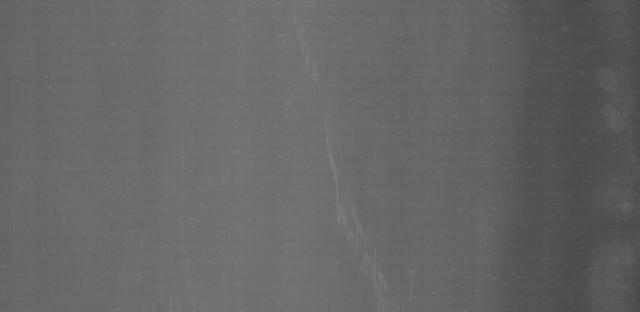silk_spot: (306, 126, 394, 258), (343, 220, 405, 312), (292, 39, 322, 97)
